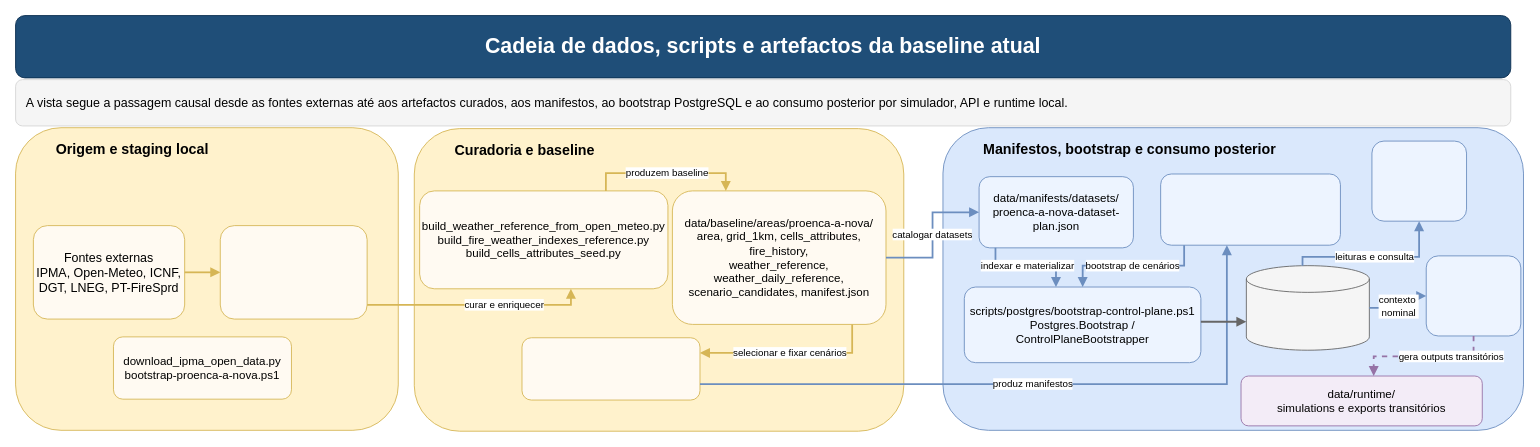
This 1540x447 diagram has some shape labels left out. Each missing label, with the centre of its shape:
"Backoffice.Api lê control.* e projection.*" belongs at pixel 1419 180.
"build_proenca_scenarios.py gera cenários A, B e C" belongs at pixel 610 368.
"data/external respostas, amostras e fontes guardadas" belongs at pixel 293 272.
"data/manifests/scenarios/ template, catálogo e manifestos individuais" belongs at pixel 1250 209.
"PostgreSQL control.*" belongs at pixel 1307 307.
"Simulator.Host lê control plane ou manifesto local" belongs at pixel 1473 295.
